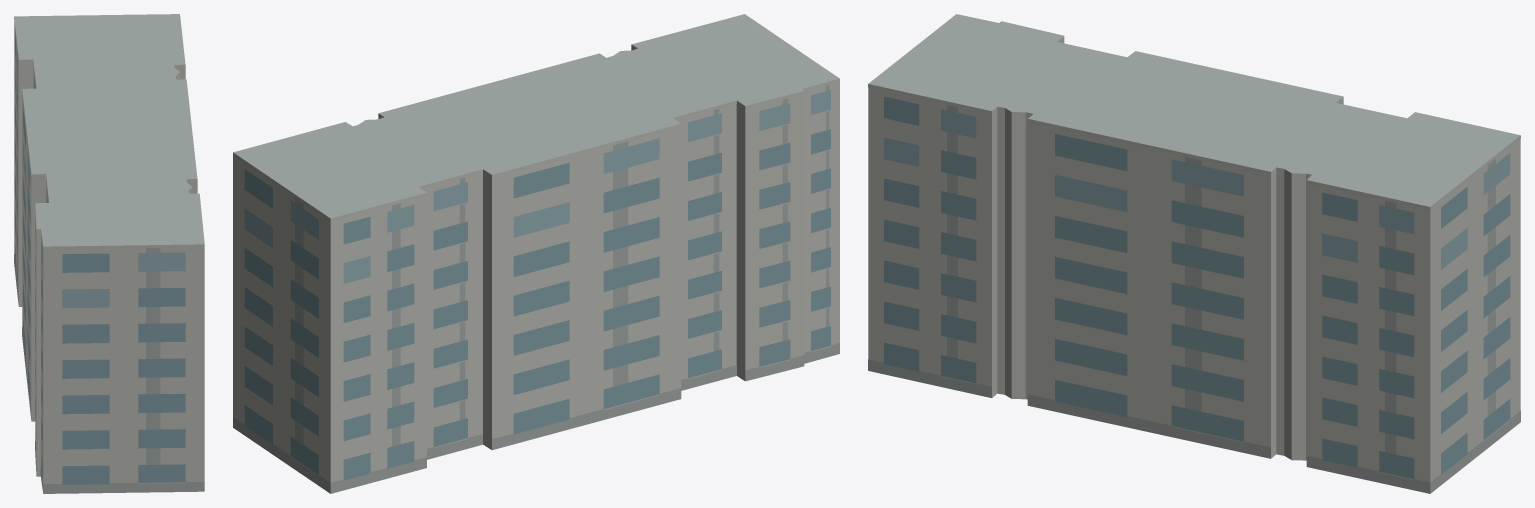
Rendered from survey-upis-32871409.glb.
3 views of the same model, side by side, from view 1: azimuth 30°, elevation 25°; view 2: azimuth 150°, elevation 25°; view 3: azimuth 270°, elevation 25° (orthographic). The views are drawn at different scales.
Visible parts, largest first — view 1: survey-upis-32871409.tmp; view 2: survey-upis-32871409.tmp; view 3: survey-upis-32871409.tmp.
Boxes of the visible parts, left/top/right/bottom form: survey-upis-32871409.tmp: left=14, top=14, right=204, bottom=493; survey-upis-32871409.tmp: left=233, top=14, right=839, bottom=493; survey-upis-32871409.tmp: left=868, top=14, right=1520, bottom=493.
Bounding box in the file's own units: 29.14 × 20.2 × 41.65.
